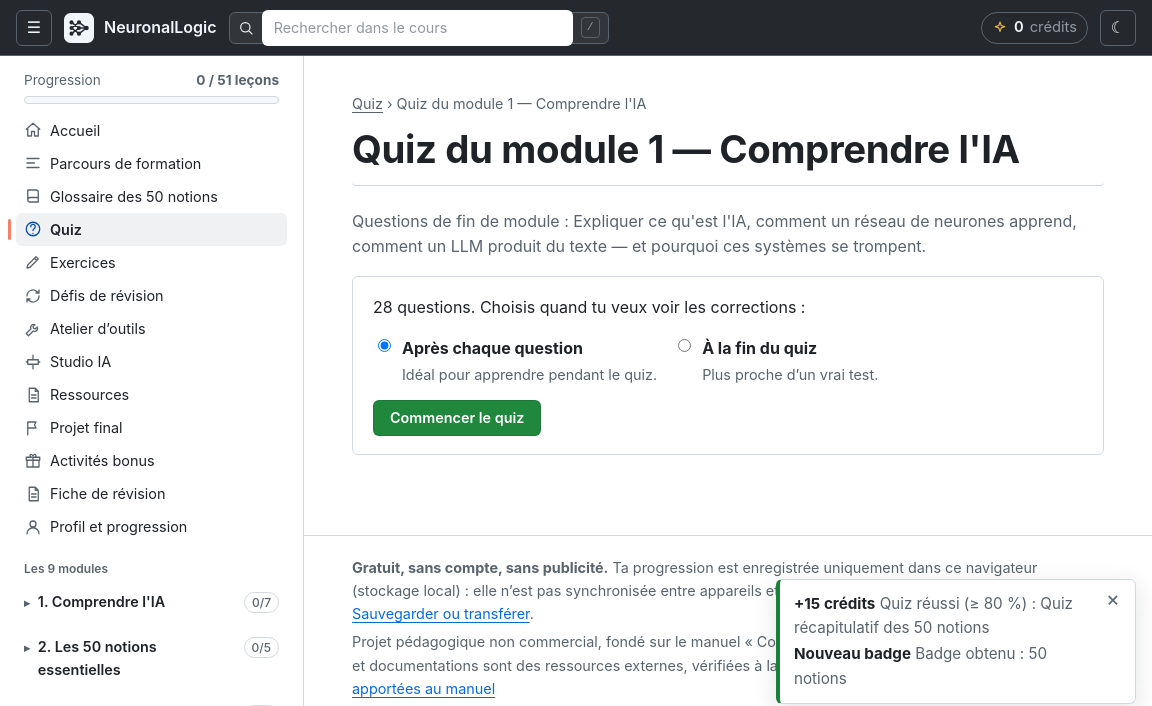
quiz › garde « Question suivante » inactif tant qu’aucune réponse n’est choisie (mode final)
The image size is (1152, 706).
Click the radio button labelled "À la fin du quiz". click: (685,346)
box: 678,339 -> 691,352
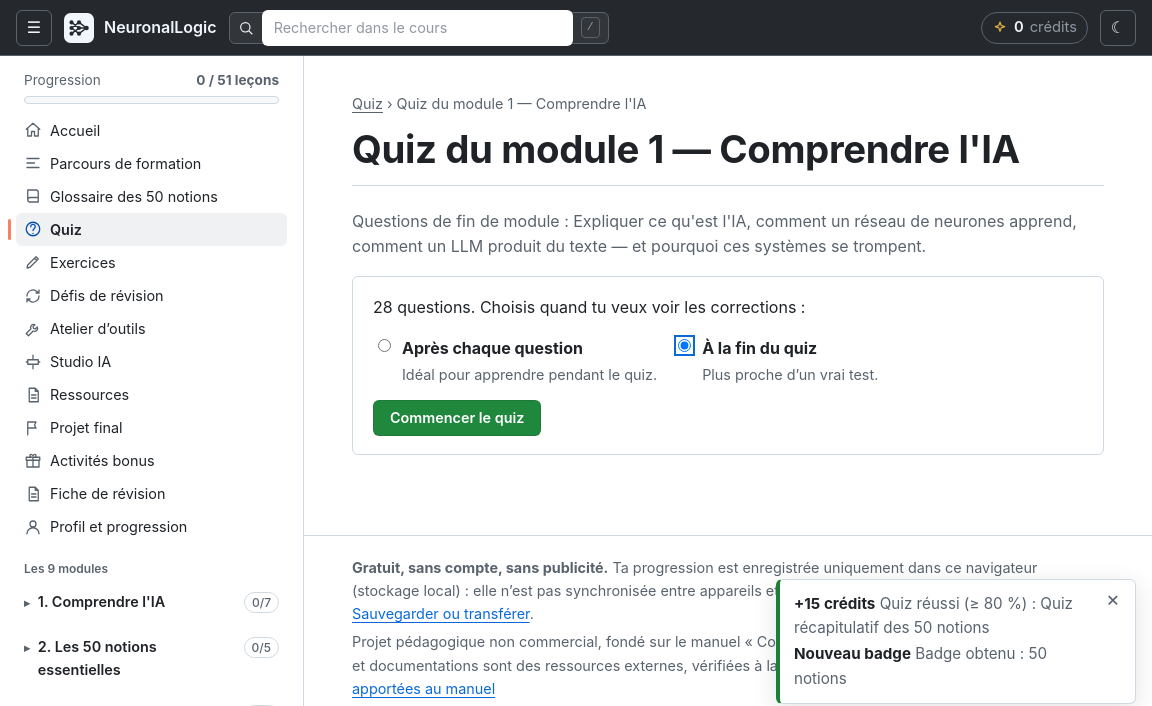
Click the button "Commencer le quiz". click: (457,418)
box: 373,400 -> 541,436
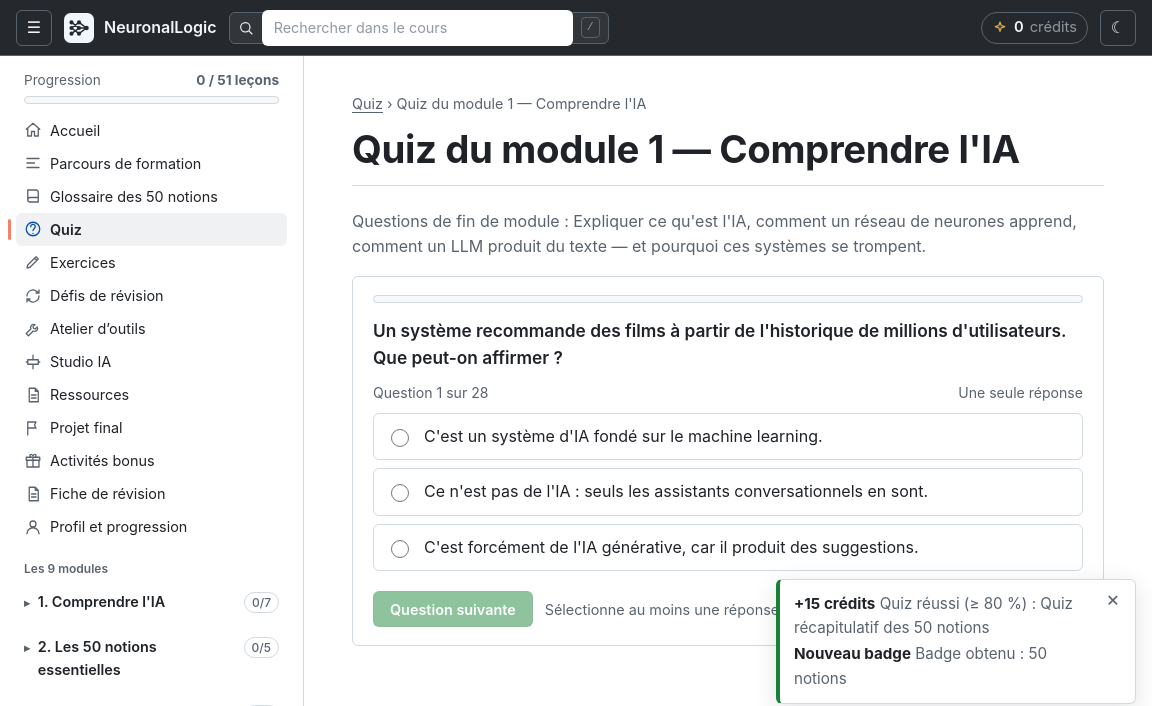
Expected: the button "Question suivante" is disabled, 373,591 -> 533,627
